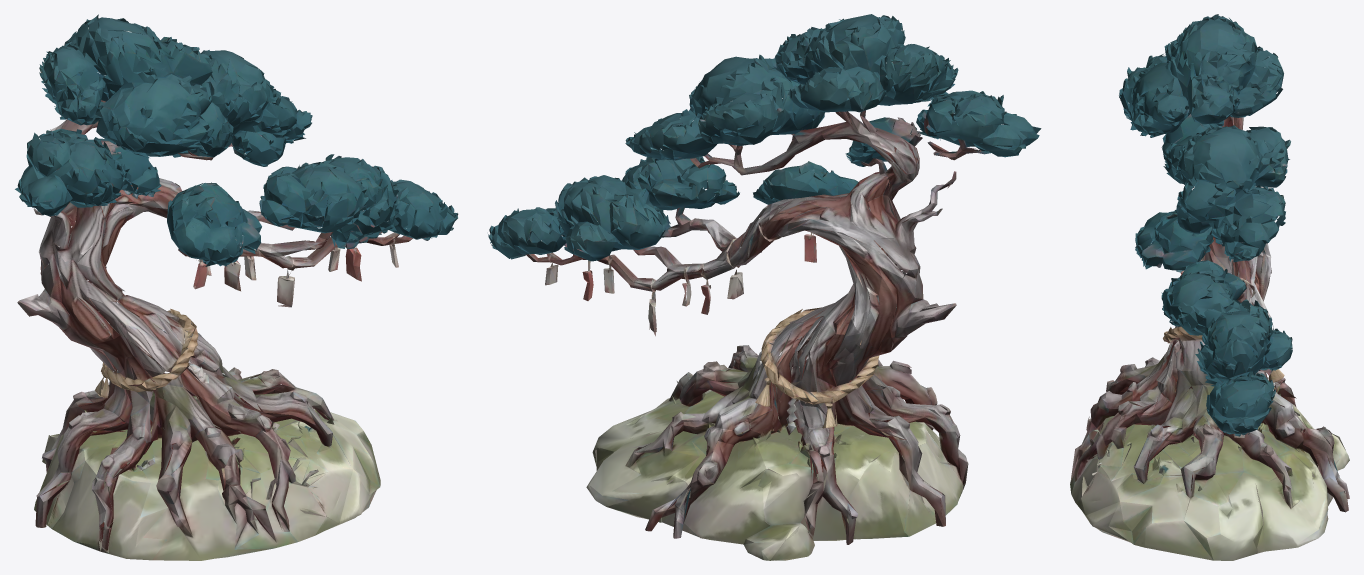
The model's file is east_pine.glb.
3 renders of one model, left to right at view 1: azimuth 30°, elevation 25°; view 2: azimuth 150°, elevation 25°; view 3: azimuth 270°, elevation 25°, orthographic. The views are drawn at different scales.
Parts seen in each view (by area): view 1: Mesh_0; view 2: Mesh_0; view 3: Mesh_0.
Boxes of the visible parts, left/top/right/bottom form: Mesh_0: left=15, top=14, right=458, bottom=560; Mesh_0: left=488, top=14, right=1041, bottom=560; Mesh_0: left=1070, top=14, right=1349, bottom=560.
Size of the model in its own units: 12.82 by 12.5 by 7.35.
Materials: 1 (1 with a texture image).
